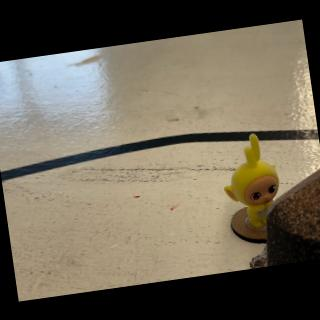teletubby: (224, 133, 278, 227)
